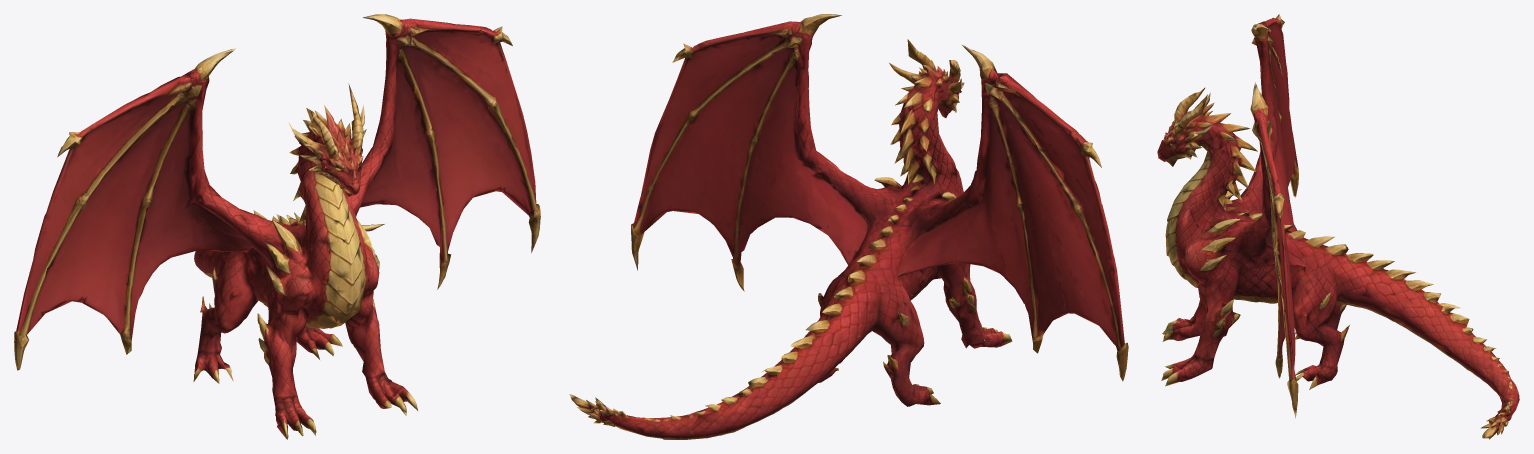
File: dragon.glb
3 renders of one model, left to right at view 1: azimuth 30°, elevation 25°; view 2: azimuth 150°, elevation 25°; view 3: azimuth 270°, elevation 25°, orthographic. The views are drawn at different scales.
Visible parts, largest first — view 1: tripo_node_1d6a15cc-22f3-44fe-a7b1-ce8a4cab6e46; view 2: tripo_node_1d6a15cc-22f3-44fe-a7b1-ce8a4cab6e46; view 3: tripo_node_1d6a15cc-22f3-44fe-a7b1-ce8a4cab6e46.
Boxes of the visible parts, box(x1,y1,x2,y2) form: tripo_node_1d6a15cc-22f3-44fe-a7b1-ce8a4cab6e46: box(14, 14, 540, 439); tripo_node_1d6a15cc-22f3-44fe-a7b1-ce8a4cab6e46: box(569, 14, 1128, 439); tripo_node_1d6a15cc-22f3-44fe-a7b1-ce8a4cab6e46: box(1157, 14, 1519, 439).
Bounding box in the file's own units: 0.9784 × 0.6334 × 0.6845.
Materials: 1 (1 with a texture image).
